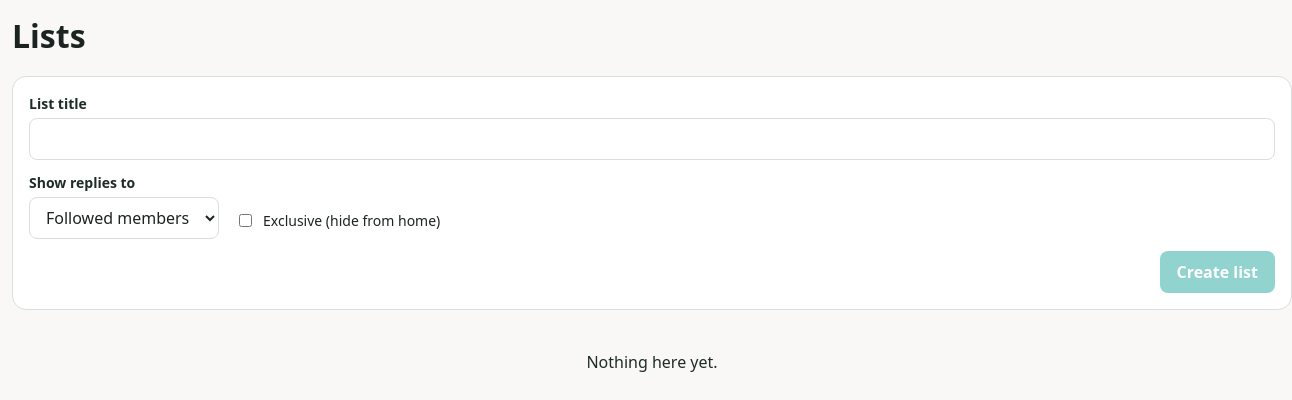
ListsPage › creates a list from the form
The image size is (1292, 400).
Type "New" into the field with class "field__input". click: coordinates (652, 139)
box: [29,118,1275,160]
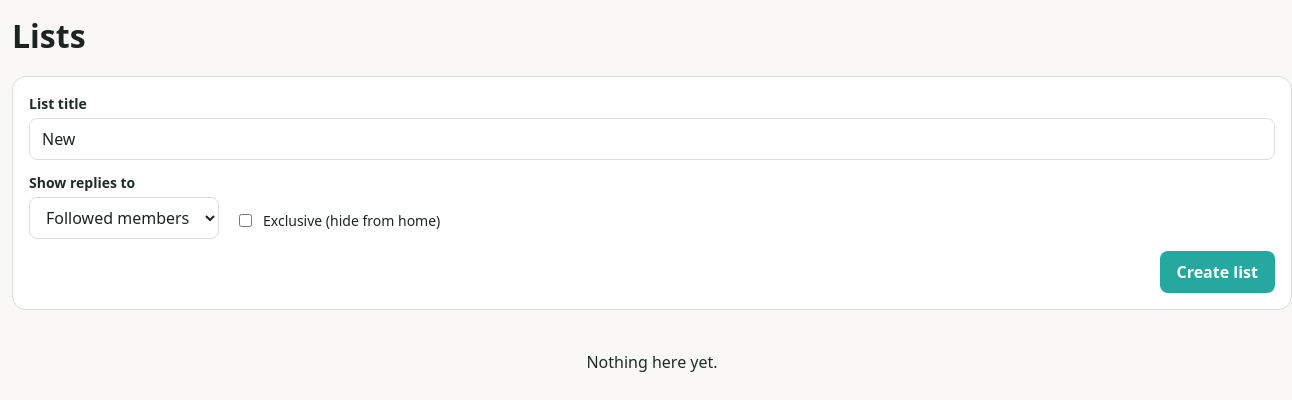
Submit the form, box [29,93,1275,293]
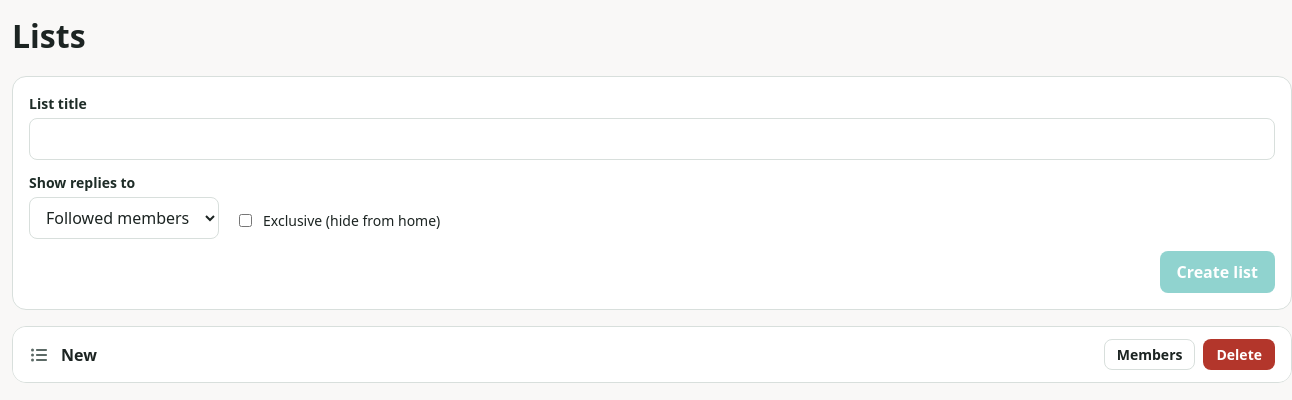
Expected: the link with class "lists__title" reads "New", [61,344,97,366]
